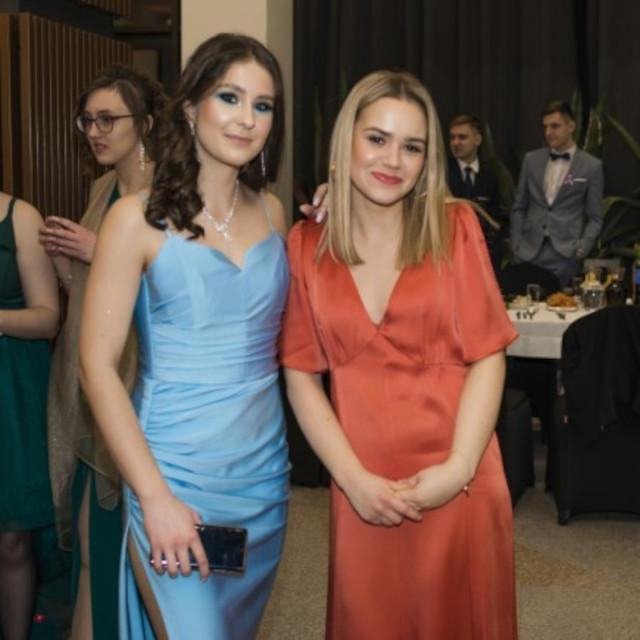kobieta: (284, 67, 511, 640), (80, 32, 290, 640), (55, 68, 168, 321), (0, 179, 62, 640)
mezczyzna: (513, 102, 609, 286), (446, 120, 504, 230)
